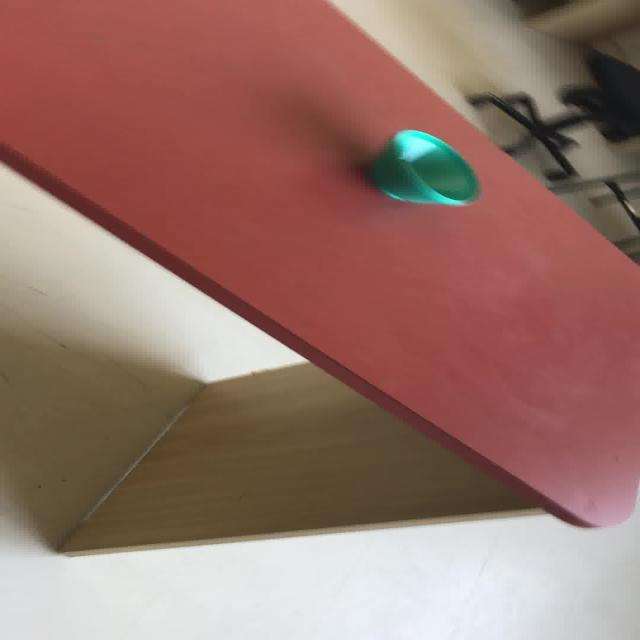bowl: (2, 0, 637, 554), (371, 128, 480, 205)
